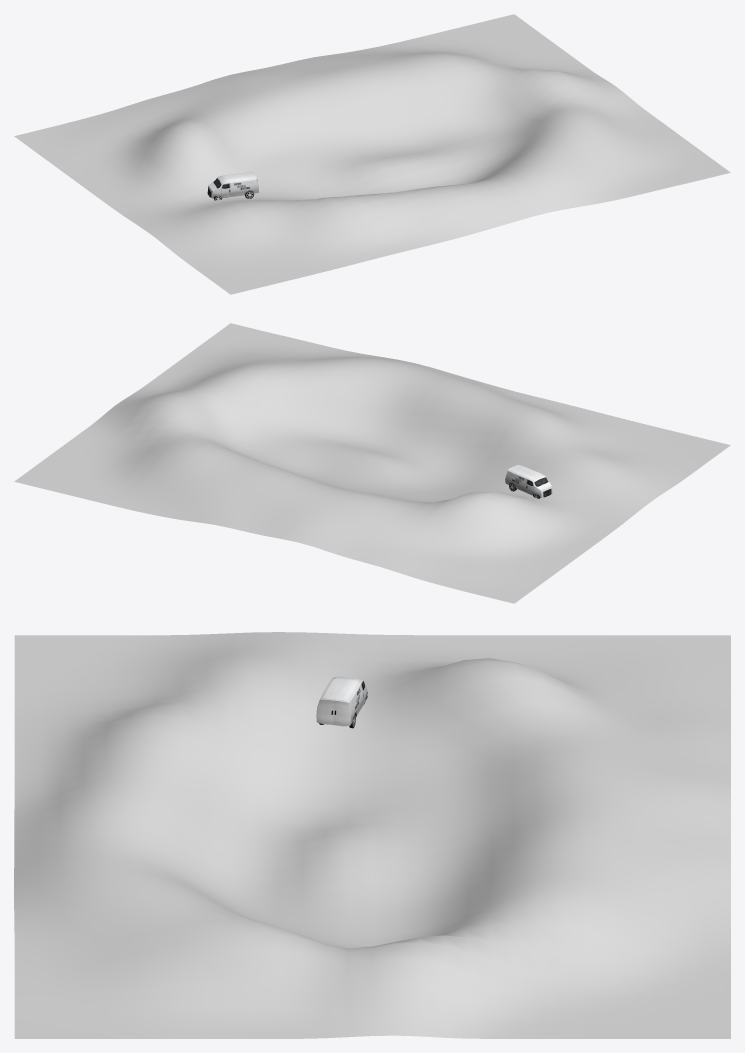
Rendered from Map.FBX.
3 renders of one model, top to bottom at view 1: azimuth 30°, elevation 25°; view 2: azimuth 150°, elevation 25°; view 3: azimuth 270°, elevation 25°, orthographic. The views are drawn at different scales.
Parts seen in each view (by area): view 1: Ground001, Van; view 2: Ground001, Van; view 3: Ground001, Van.
Boxes of the visible parts, <box> form: Ground001: <box>14,14,730,294</box>; Van: <box>207,172,258,198</box>; Ground001: <box>14,323,730,603</box>; Van: <box>505,465,552,497</box>; Ground001: <box>14,632,730,1038</box>; Van: <box>320,676,367,724</box>.
Bounding box in the file's own units: 400 × 35.74 × 300.
Materials: 2 (2 with a texture image).
